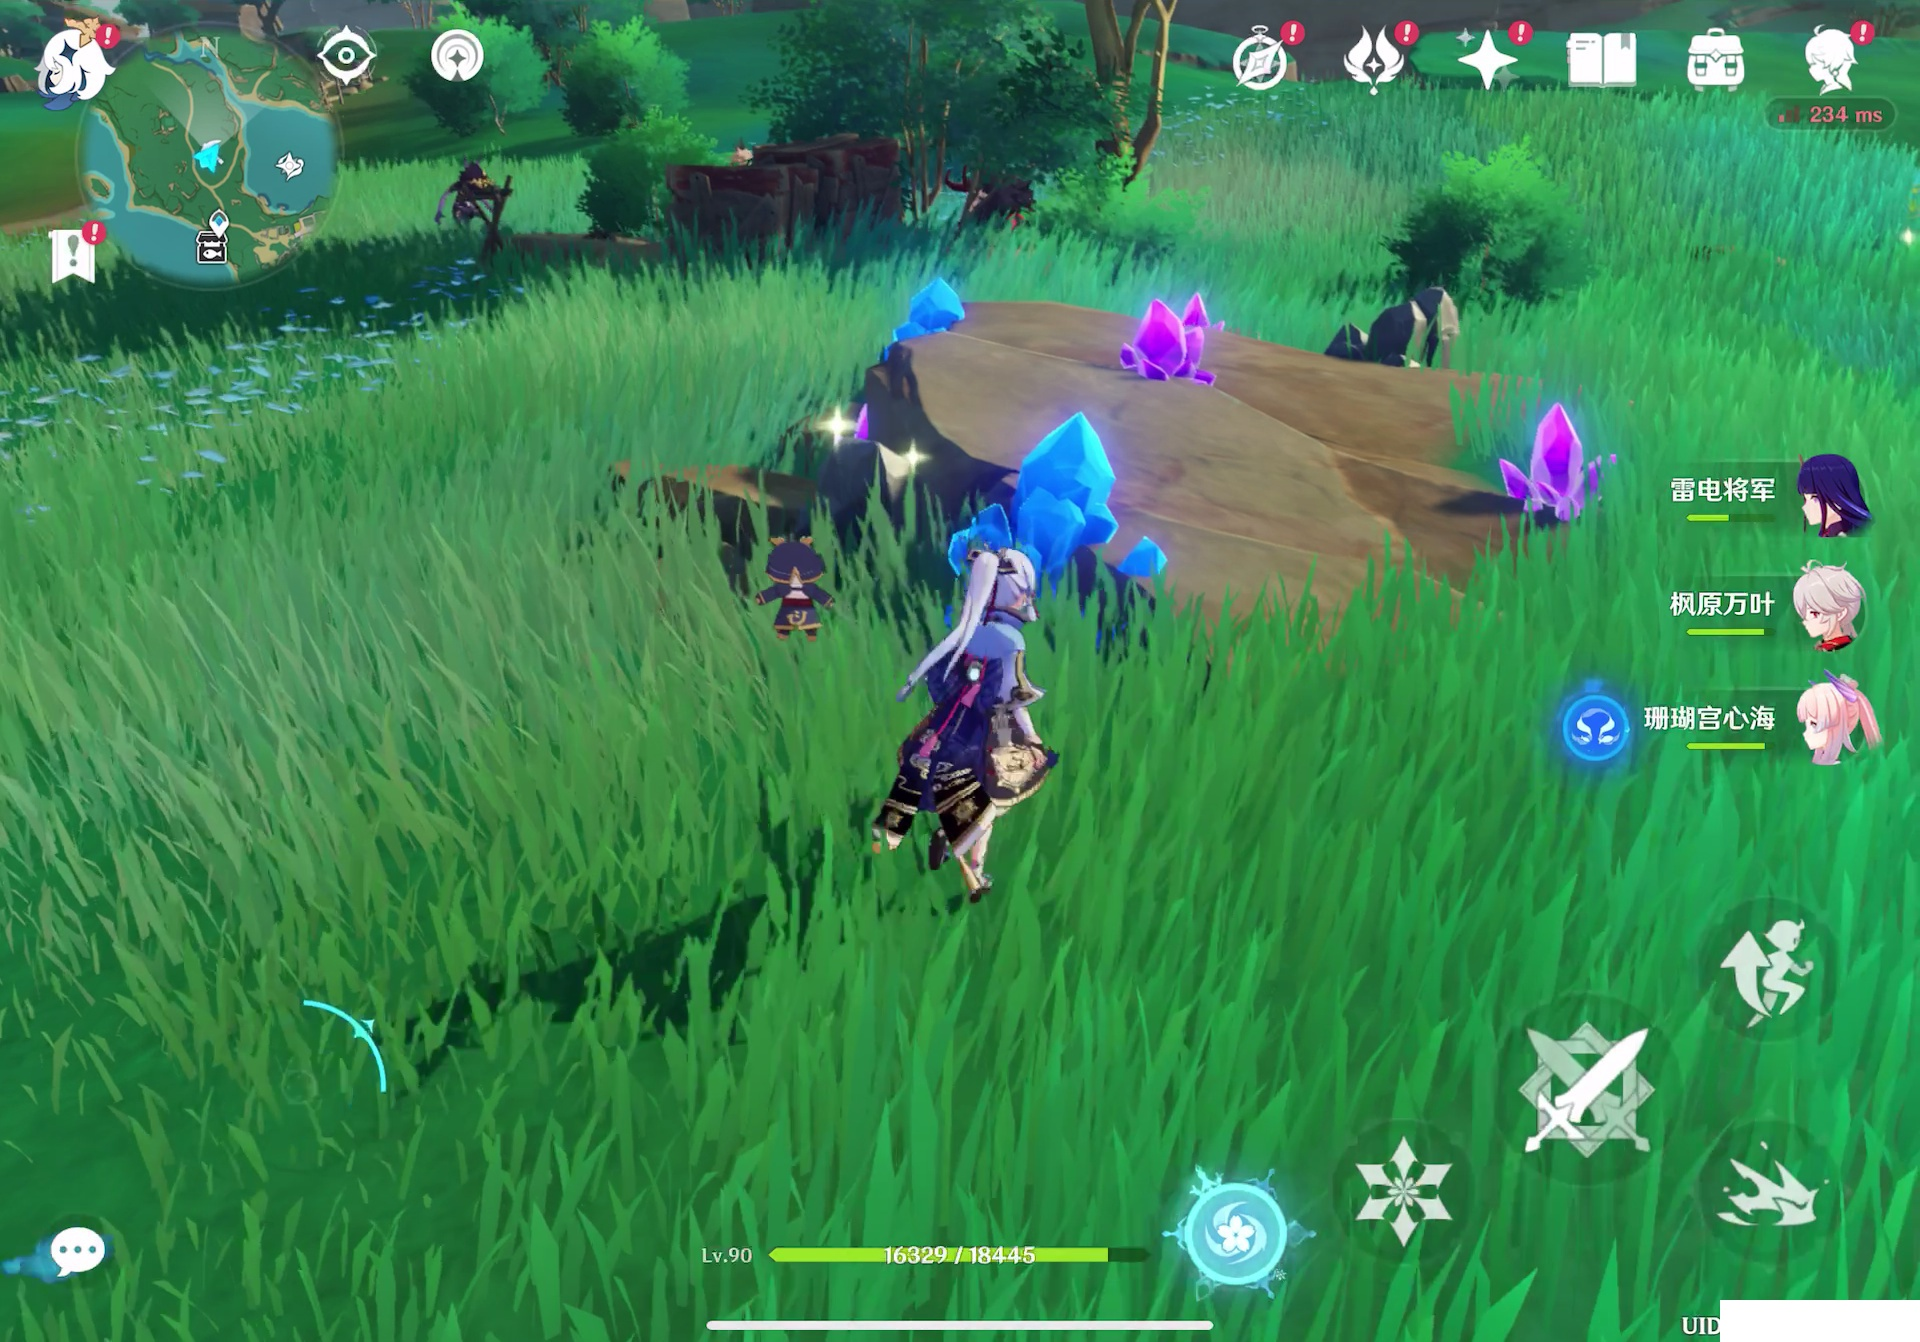丘丘人: (433, 156, 495, 238)
白铁矿石: (805, 407, 921, 563), (1312, 276, 1475, 382)
神里绫龟: (912, 551, 1059, 904)
紫矿石: (1501, 389, 1630, 528), (1109, 276, 1234, 384)
蓝矿石: (957, 414, 1174, 607), (867, 265, 973, 353)
